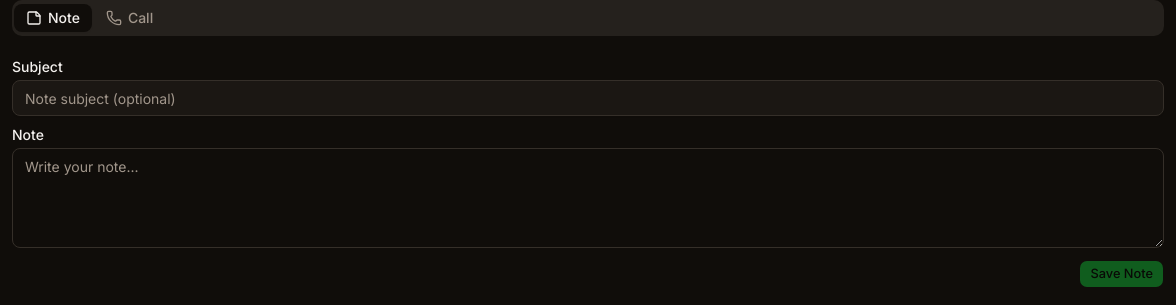
Test: ActivityComposer › NoteForm › enables save button when body has text
Type "Met with client" into the text box labelled "Note" at {"x": 588, "y": 198}, box [12,148,1164,248]
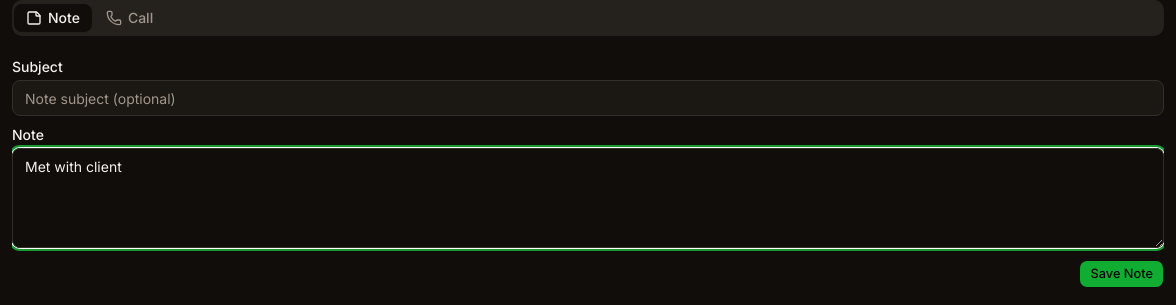
Expected: the button "Save Note" is enabled, [1080,260,1164,288]
